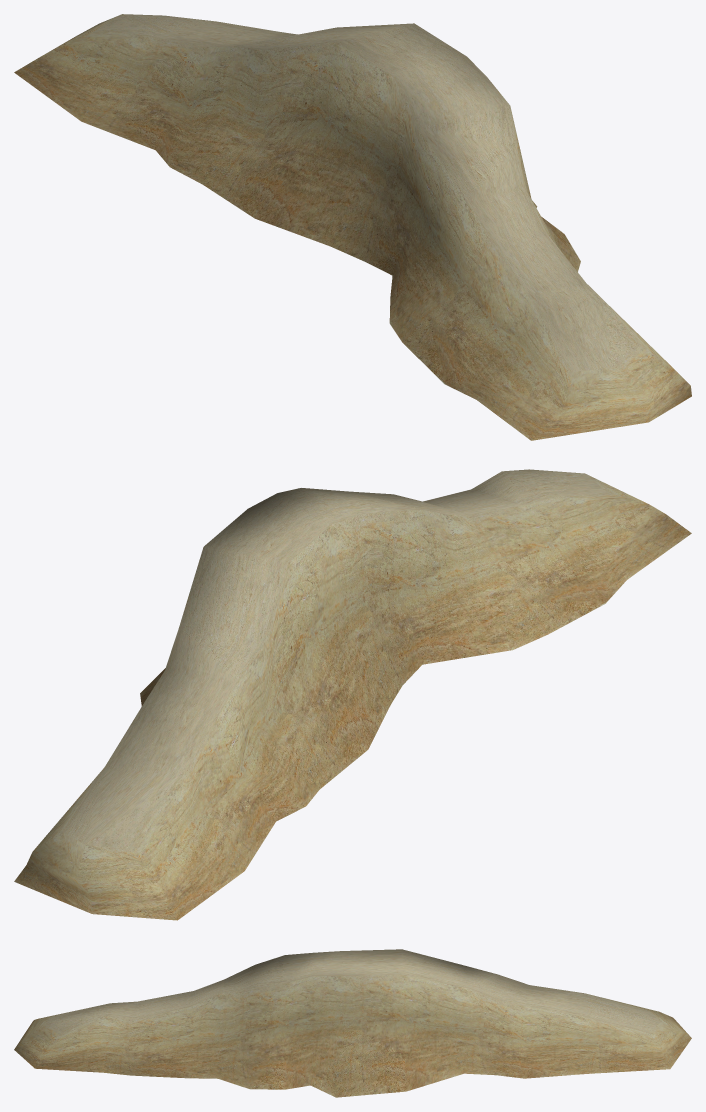
The model's file is rock_beach_spine_a1_l2.fbx.
3 renders of one model, top to bottom at view 1: azimuth 30°, elevation 25°; view 2: azimuth 150°, elevation 25°; view 3: azimuth 270°, elevation 25°, orthographic. The views are drawn at different scales.
Visible parts, largest first — view 1: mesh_node; view 2: mesh_node; view 3: mesh_node.
Part boxes in pixels (x1,y1,x2,y2): mesh_node: (14, 14, 691, 440); mesh_node: (14, 469, 691, 920); mesh_node: (14, 949, 691, 1097).
Size of the model in its own units: 7.83 by 4.86 by 28.36.
